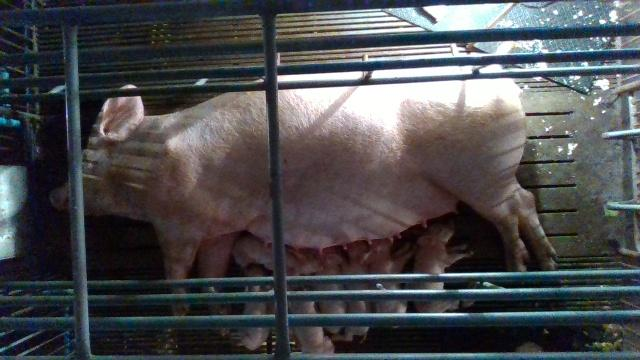piglet: (411, 221, 475, 311), (362, 237, 413, 329), (332, 241, 371, 342), (233, 235, 325, 277), (239, 267, 273, 349), (314, 247, 346, 333), (289, 300, 335, 355)
sow-sleep-lactate: (49, 72, 558, 337)
